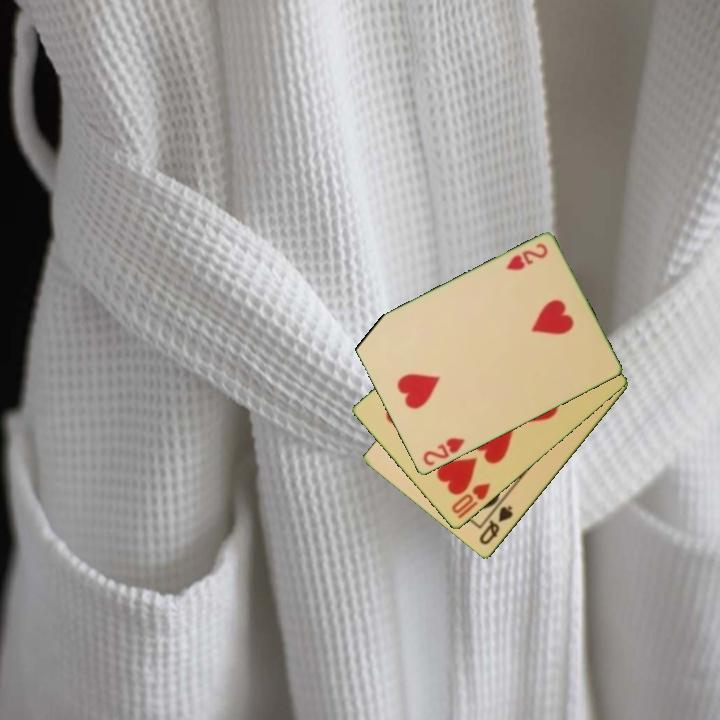10h: (448, 479, 494, 522)
2h: (419, 434, 468, 469), (502, 240, 550, 274)
Qs: (476, 502, 516, 548)
